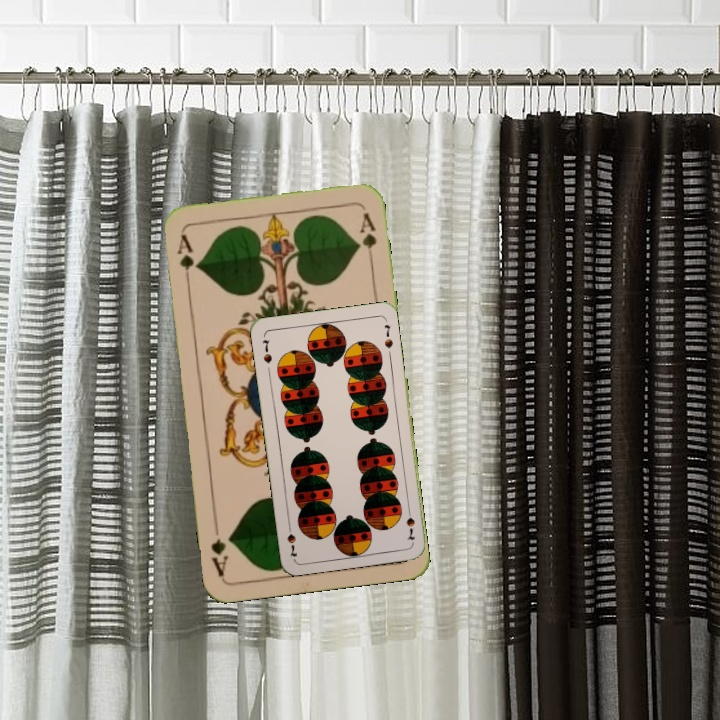GA: (173, 230, 197, 289)
S7: (402, 503, 417, 543), (258, 335, 275, 366)
